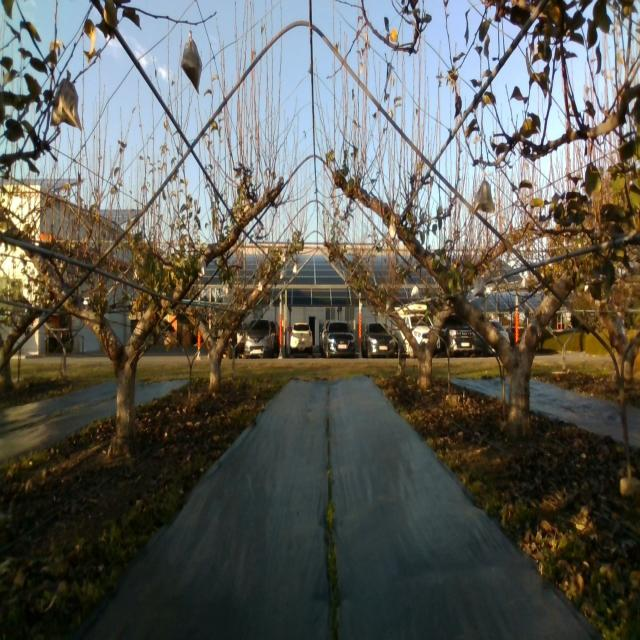pearbags: (50, 78, 82, 129), (180, 38, 202, 95), (474, 180, 495, 214), (473, 275, 487, 298)
